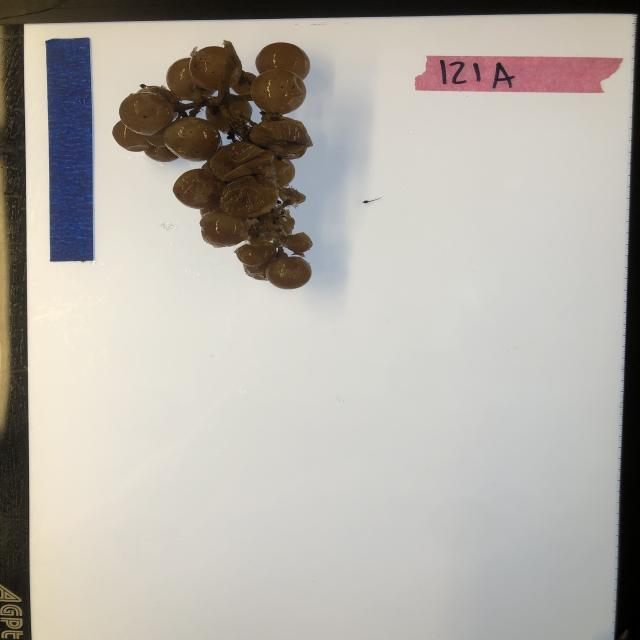grape_cluster: (111, 38, 315, 292)
index: (413, 52, 625, 97)
measure_label: (44, 35, 99, 265)
